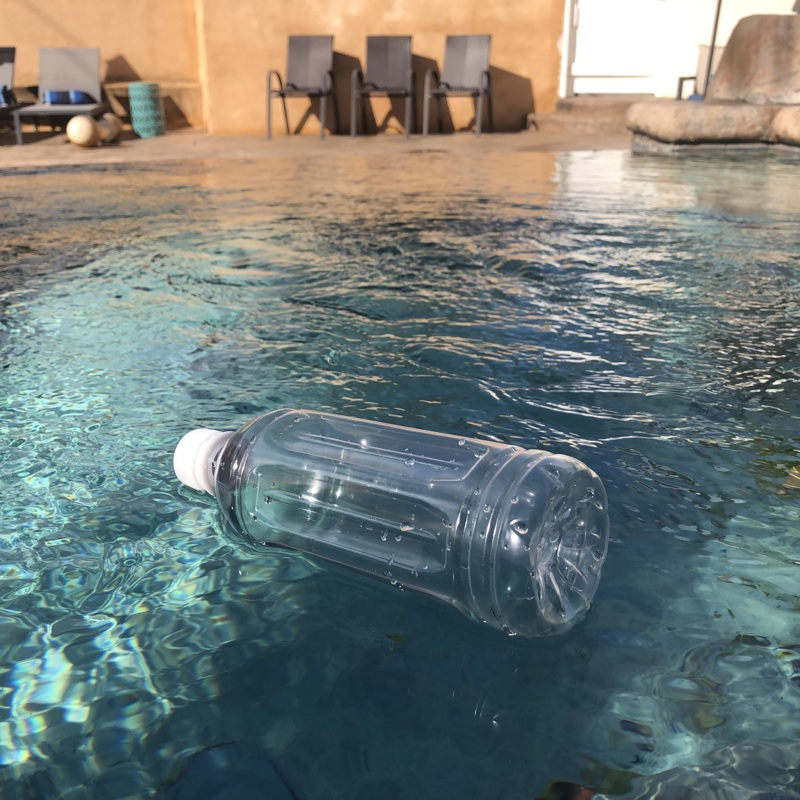Plastic Bottle: (168, 404, 614, 653)
